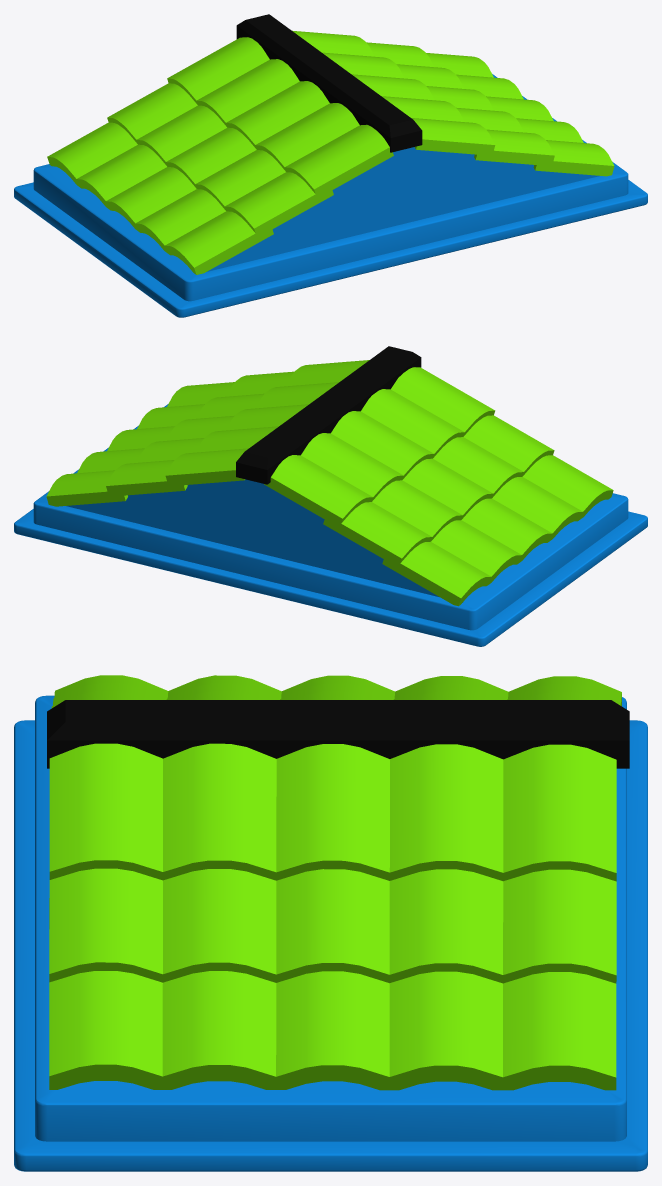
File: roof.gltf
3 views of the same model, one above another, from view 1: azimuth 30°, elevation 25°; view 2: azimuth 150°, elevation 25°; view 3: azimuth 270°, elevation 25° (orthographic). The views are drawn at different scales.
Visible parts, largest first — view 1: 立方體.009, 立方體.005, 立方體.014, 立方體.013; view 2: 立方體.009, 立方體.005, 立方體.014, 立方體.013; view 3: 立方體.014, 立方體.005, 立方體.013, 立方體.009.
Boxes of the visible parts, <box> form: 立方體.009: <box>47,37,393,274</box>; 立方體.005: <box>14,74,647,317</box>; 立方體.014: <box>292,30,614,176</box>; 立方體.013: <box>236,14,422,152</box>; 立方體.009: <box>264,367,613,606</box>; 立方體.005: <box>14,404,647,646</box>; 立方體.014: <box>46,360,369,506</box>; 立方體.013: <box>236,346,421,484</box>; 立方體.014: <box>49,743,616,1090</box>; 立方體.005: <box>14,695,647,1171</box>; 立方體.013: <box>47,700,629,768</box>; 立方體.009: <box>51,675,621,708</box>.
Bounding box in the file's own units: 11.82 × 3.1 × 7.28.
